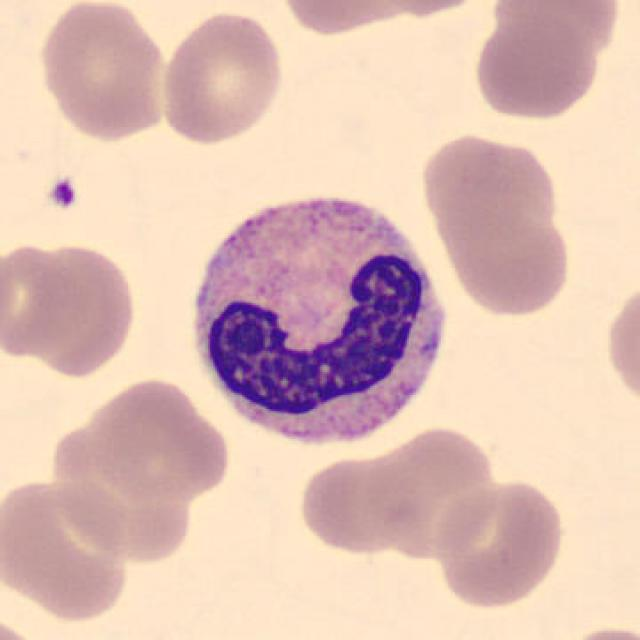Neutrophil: (176, 173, 459, 460)
Platelets: (42, 173, 82, 215)
RBC: (42, 425, 202, 574), (0, 471, 137, 626), (354, 421, 503, 561), (74, 374, 234, 504), (32, 0, 174, 143), (428, 474, 569, 610), (156, 7, 288, 148), (437, 194, 578, 321), (12, 240, 140, 379), (416, 130, 565, 240), (470, 7, 604, 123), (293, 448, 425, 557), (487, 0, 626, 58), (602, 273, 640, 417), (274, 0, 418, 37), (360, 0, 494, 19), (549, 620, 638, 640), (0, 610, 50, 640)
